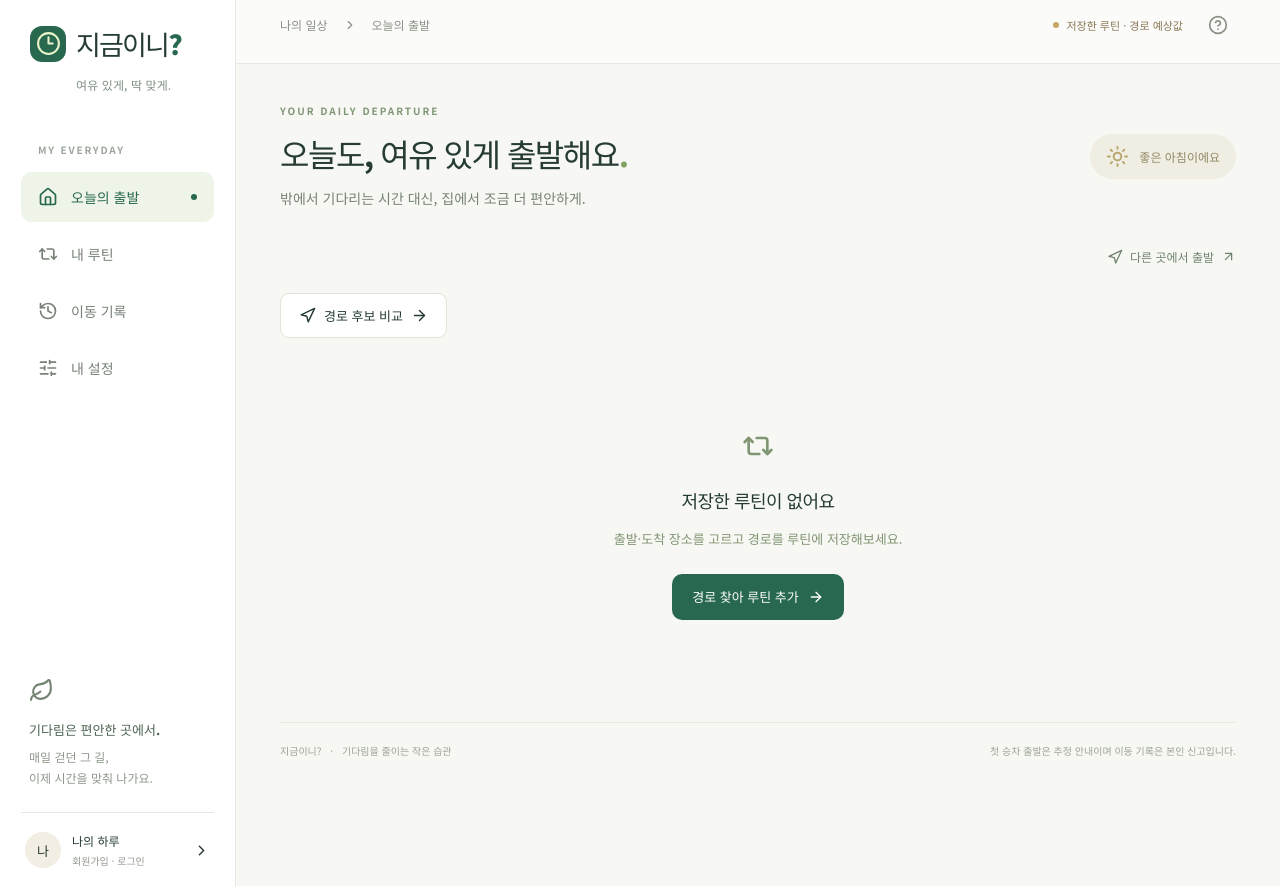
Test: 서버 연결 확인 › 정상 응답이면 연결됨과 확인 시각을 표시한다
The image size is (1280, 886).
Click the button "내 설정". click: point(118, 368)
box: [21,343,214,393]
(page scrolled)
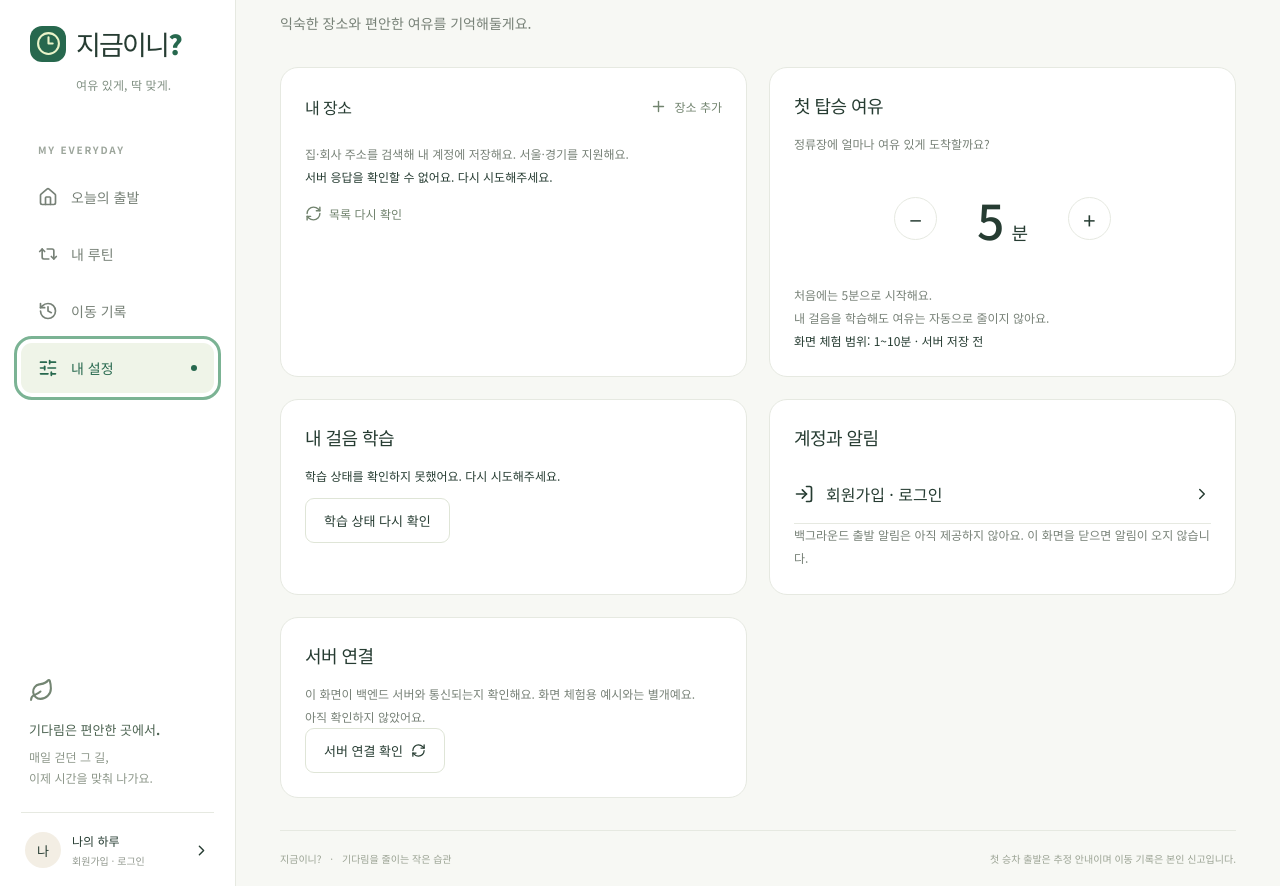
Click the button "서버 연결 확인". click: point(375, 751)
box: [305,728,445,773]
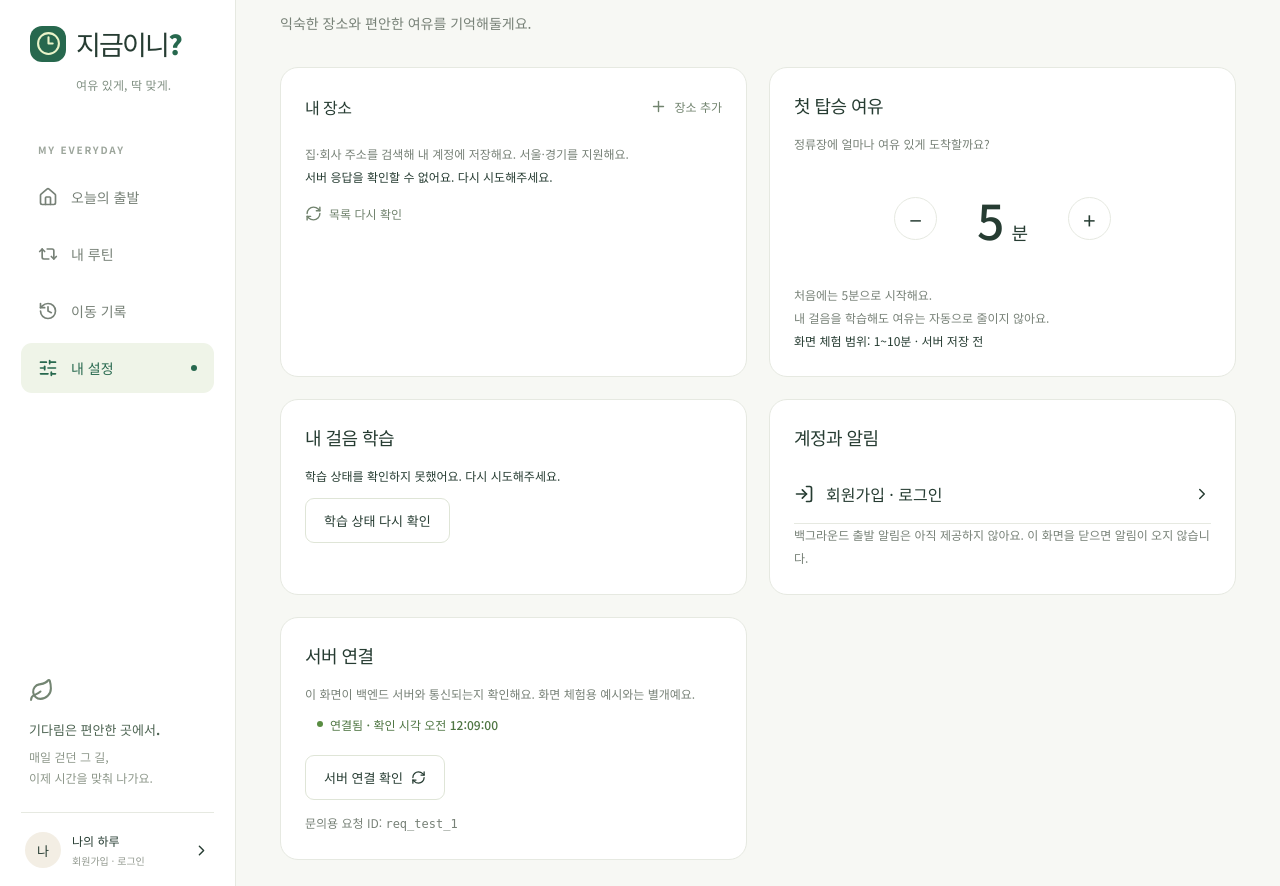
expect the text "연결됨 · 확인 시각" is shown: met, box [330,716,424,733]
expect the text "req_test_1" is shown: met, box [385,817,458,831]
